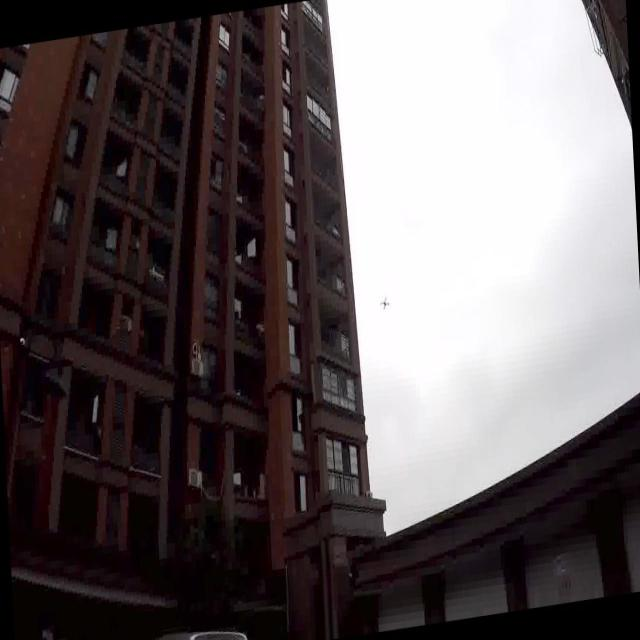drone: (379, 293, 390, 311)
